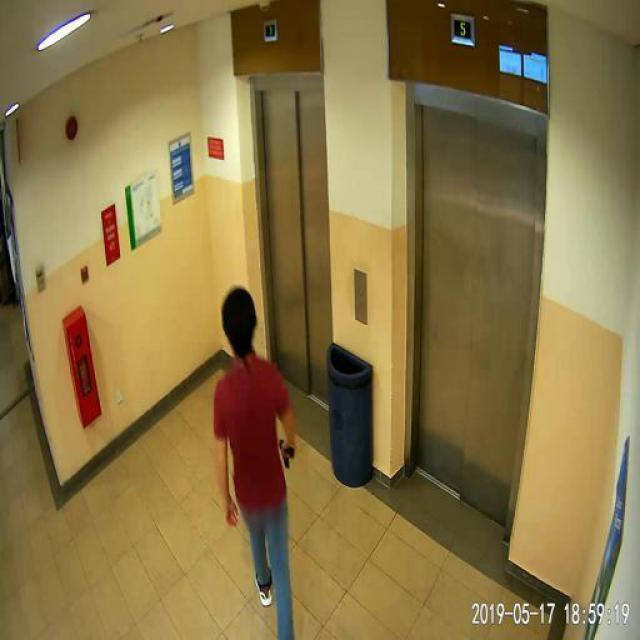gun: (278, 436, 292, 466)
